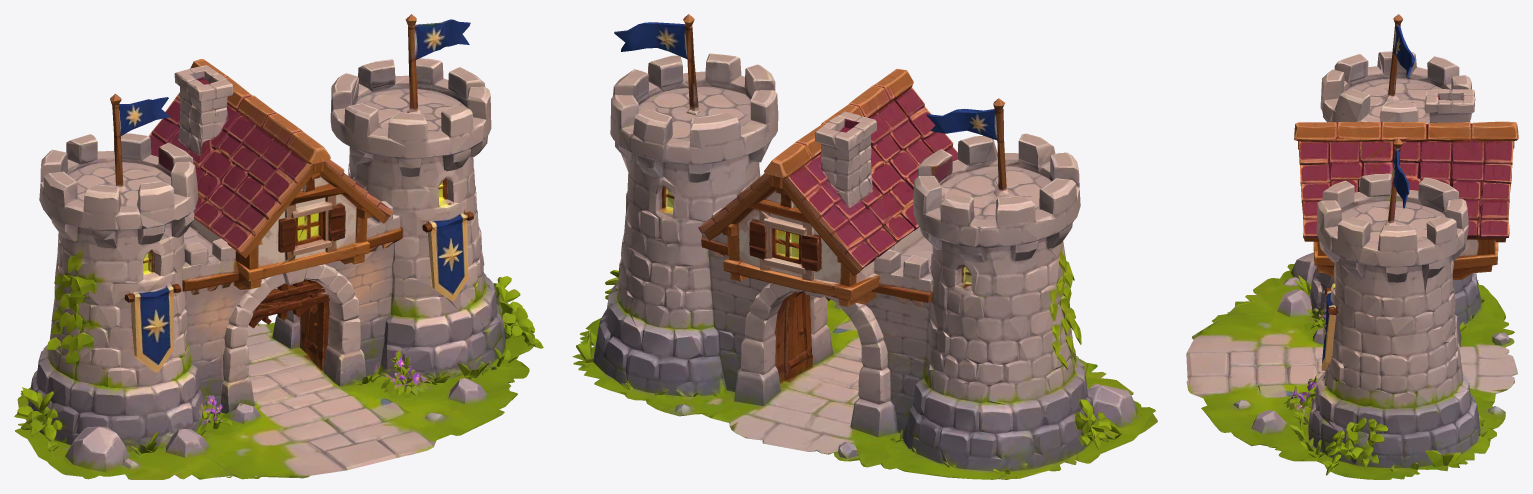
The model's file is castle_gate_b4.glb.
3 views of the same model, side by side, from view 1: azimuth 30°, elevation 25°; view 2: azimuth 150°, elevation 25°; view 3: azimuth 270°, elevation 25° (orthographic). The views are drawn at different scales.
Visible parts, largest first — view 1: output_unwrapped; view 2: output_unwrapped; view 3: output_unwrapped.
Boxes of the visible parts, box(x1,y1,x2,y2) form: output_unwrapped: box(14, 14, 543, 479); output_unwrapped: box(572, 14, 1157, 479); output_unwrapped: box(1186, 14, 1518, 479).
Bounding box in the file's own units: 1.9 × 1.19 × 1.2.
1 material, 1 textured.
